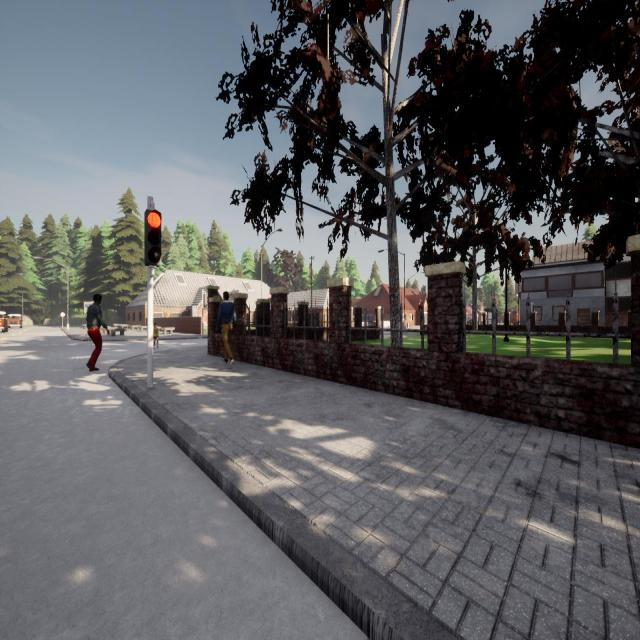Pedestrian: (87, 293, 109, 371), (214, 291, 236, 365), (153, 322, 160, 351), (2, 315, 8, 332)
Traffic_Signs: (60, 312, 66, 317)
Vehicle: (8, 313, 22, 329), (0, 311, 7, 327)
traffic_light: (144, 208, 162, 266), (418, 302, 421, 310)
